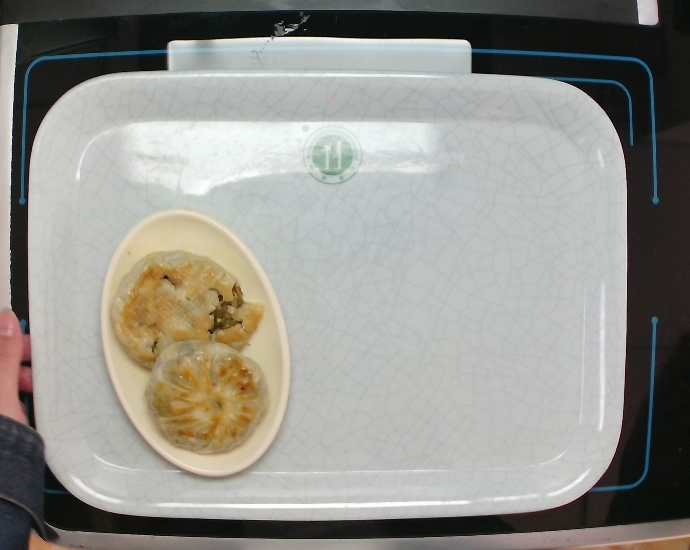JYsf-Tuo_Yuan_Wan: (94, 205, 296, 482)
